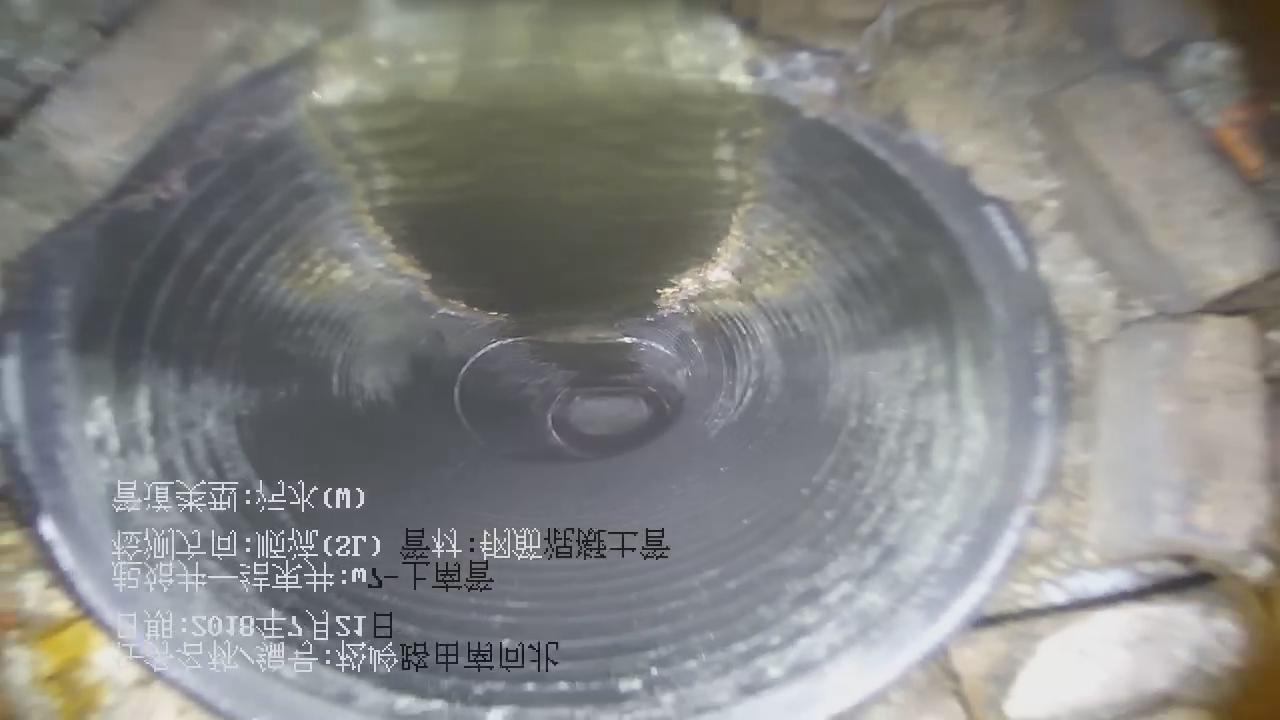BX: (431, 334, 718, 472)
